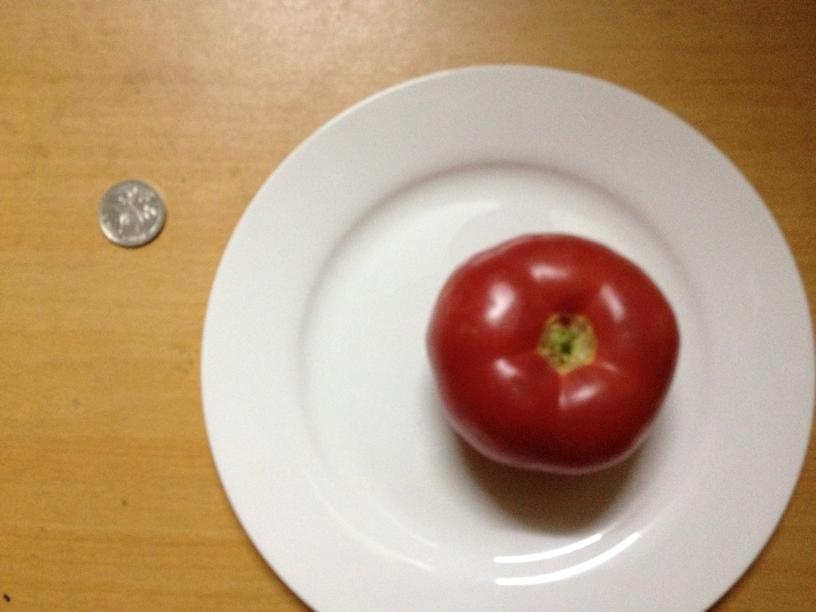coin: (95, 182, 166, 245)
tomato: (431, 235, 677, 471)
